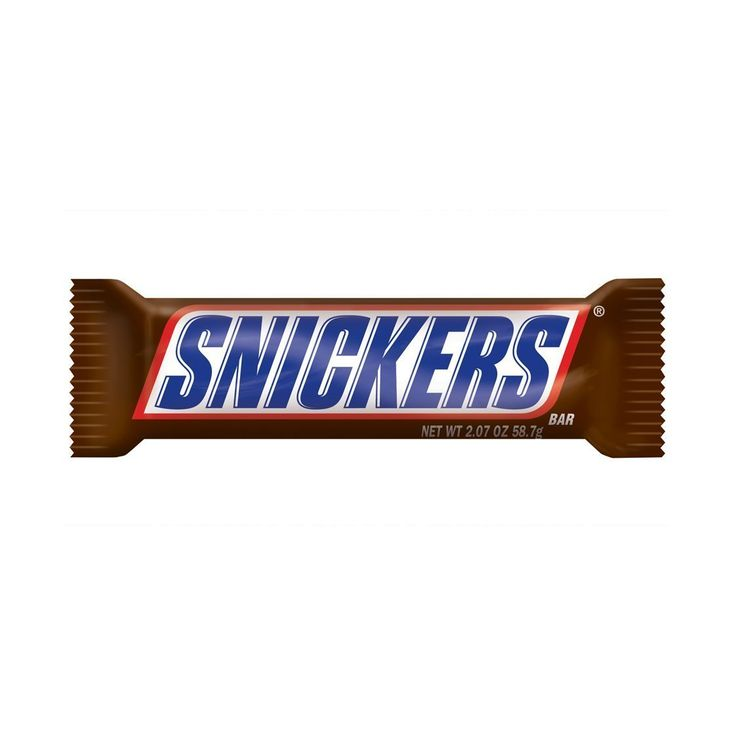snickers: (153, 308, 570, 409), (169, 308, 570, 409), (153, 312, 570, 409)
